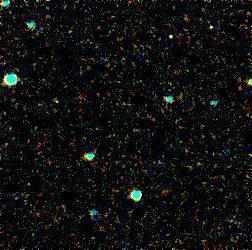star: (154, 19, 184, 49)
